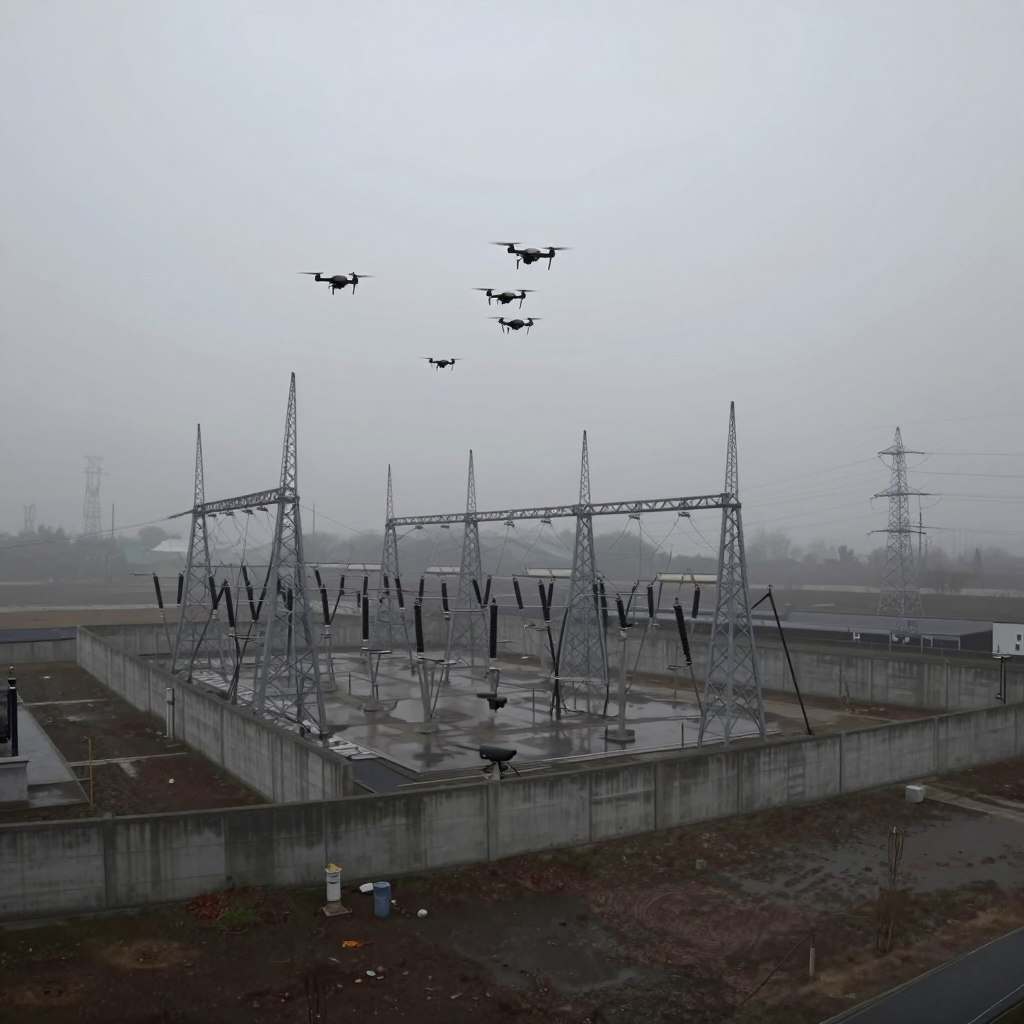drone: (490, 242, 572, 271), (299, 272, 374, 295), (486, 317, 543, 336), (471, 288, 537, 303), (418, 357, 464, 371)
